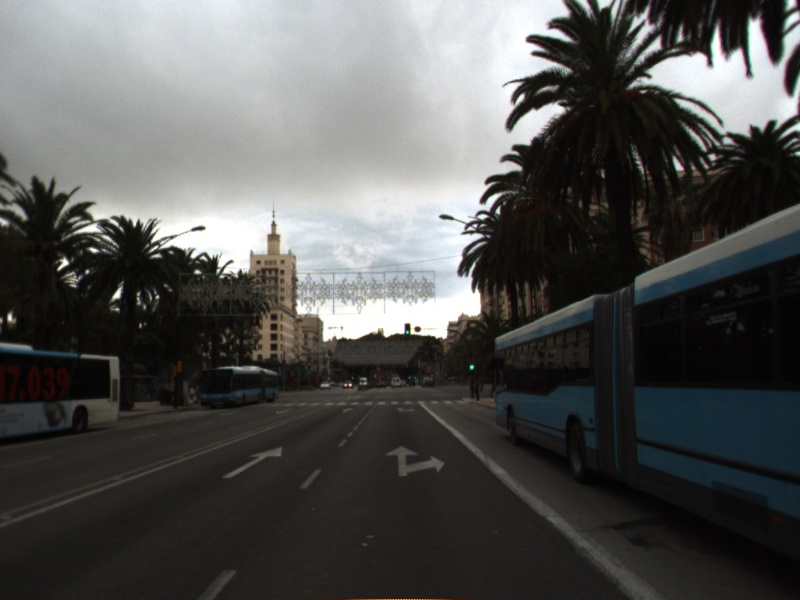STRAIGHT: (220, 444, 285, 481), (340, 406, 355, 415)
STRAIGHT_RIGHT: (383, 443, 448, 478), (393, 405, 418, 414)
